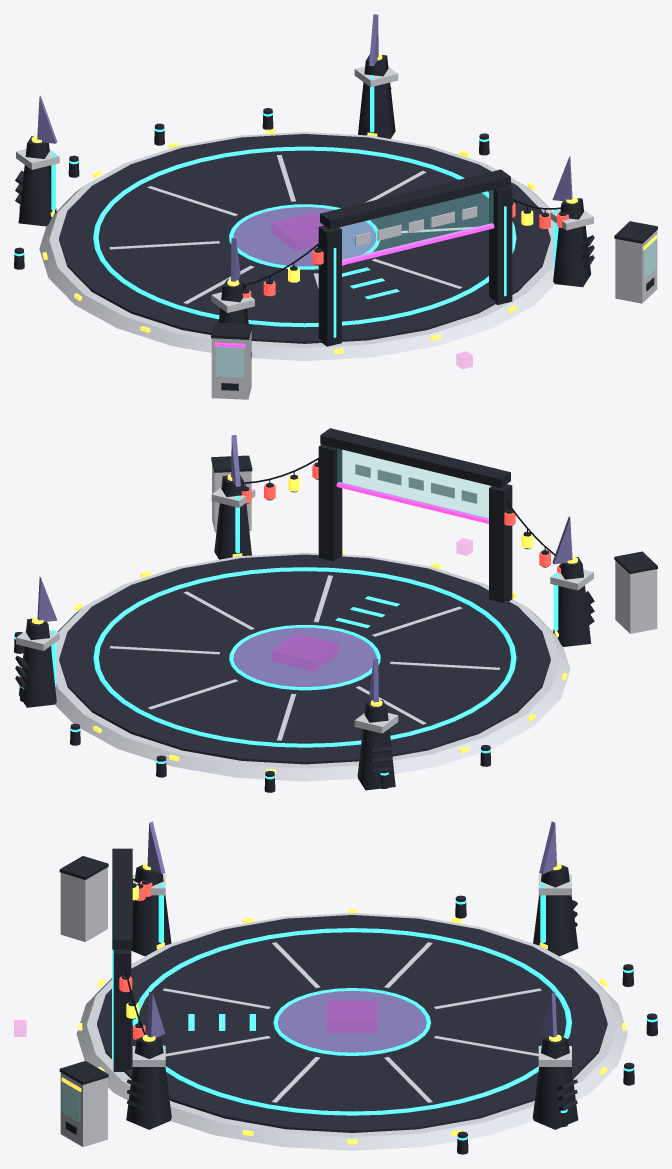
The model's file is AAT_SpawnPad.glb.
3 views of the same model, one above another, from view 1: azimuth 30°, elevation 25°; view 2: azimuth 150°, elevation 25°; view 3: azimuth 270°, elevation 25° (orthographic). The views are drawn at different scales.
Visible parts, largest first — view 1: Floor_SpawnPad__floor, SpawnPadDeco__pearl, SpawnPadDeco__graphite, SpawnPadDeco__bio, SpawnPadDeco__lavender, SpawnPadDeco__glass, Wall_WelcomePostR__graphite, Wall_WelcomePostL__graphite, Wall_Pylon3__graphite, Wall_Pylon1__graphite, Wall_Pylon2__graphite, MK_Spawn (+4 smaller); view 2: Floor_SpawnPad__floor, SpawnPadDeco__pearl, SpawnPadDeco__lavender, SpawnPadDeco__bio, SpawnPadDeco__graphite, SpawnPadDeco__glass, Wall_WelcomePostR__graphite, Wall_WelcomePostL__graphite, Wall_Pylon2__graphite, Wall_Pylon4__graphite, Wall_Pylon3__graphite, Wall_Pylon1__graphite (+4 smaller); view 3: Floor_SpawnPad__floor, SpawnPadDeco__pearl, SpawnPadDeco__lavender, SpawnPadDeco__bio, SpawnPadDeco__graphite, Wall_Pylon1__graphite, Wall_Pylon2__graphite, Wall_Pylon3__graphite, Wall_Pylon4__graphite, Wall_WelcomePostR__graphite, MK_Spawn, SpawnPadDeco__amber (+2 smaller).
Part boxes in pixels (<box>): Floor_SpawnPad__floor: <box>59,134,550,343</box>; SpawnPadDeco__pearl: <box>16,66,657,399</box>; SpawnPadDeco__graphite: <box>14,87,657,390</box>; SpawnPadDeco__bio: <box>14,75,558,337</box>; SpawnPadDeco__lavender: <box>37,14,572,281</box>; SpawnPadDeco__glass: <box>216,190,655,377</box>; Wall_WelcomePostR__graphite: <box>489,186,512,304</box>; Wall_WelcomePostL__graphite: <box>318,225,341,346</box>; Wall_Pylon3__graphite: <box>18,136,56,226</box>; Wall_Pylon1__graphite: <box>553,198,590,287</box>; Wall_Pylon2__graphite: <box>358,54,395,138</box>; MK_Spawn: <box>271,213,323,250</box>; Floor_SpawnPad__floor: <box>59,554,550,764</box>; SpawnPadDeco__pearl: <box>16,463,657,781</box>; SpawnPadDeco__lavender: <box>37,435,572,702</box>; SpawnPadDeco__bio: <box>14,495,558,779</box>; SpawnPadDeco__graphite: <box>14,428,657,792</box>; SpawnPadDeco__glass: <box>337,449,490,519</box>; Wall_WelcomePostR__graphite: <box>318,444,342,561</box>; Wall_WelcomePostL__graphite: <box>489,484,512,602</box>; Wall_Pylon2__graphite: <box>19,618,56,707</box>; Wall_Pylon4__graphite: <box>553,557,591,646</box>; Wall_Pylon3__graphite: <box>357,700,395,790</box>; Wall_Pylon1__graphite: <box>214,475,251,559</box>; Floor_SpawnPad__floor: <box>97,915,607,1132</box>; SpawnPadDeco__pearl: <box>60,867,627,1150</box>; SpawnPadDeco__lavender: <box>147,821,556,1052</box>; SpawnPadDeco__bio: <box>112,881,657,1140</box>; SpawnPadDeco__graphite: <box>59,848,657,1154</box>; Wall_Pylon1__graphite: <box>126,1036,171,1129</box>; Wall_Pylon2__graphite: <box>532,1036,578,1129</box>; Wall_Pylon3__graphite: <box>533,865,578,956</box>; Wall_Pylon4__graphite: <box>131,865,171,956</box>; Wall_WelcomePostR__graphite: <box>113,949,131,1071</box>; MK_Spawn: <box>327,1000,377,1032</box>; SpawnPadDeco__amber: <box>61,863,625,1144</box>.
Size of the model in its own units: 44.65 by 12.1 by 50.45.
